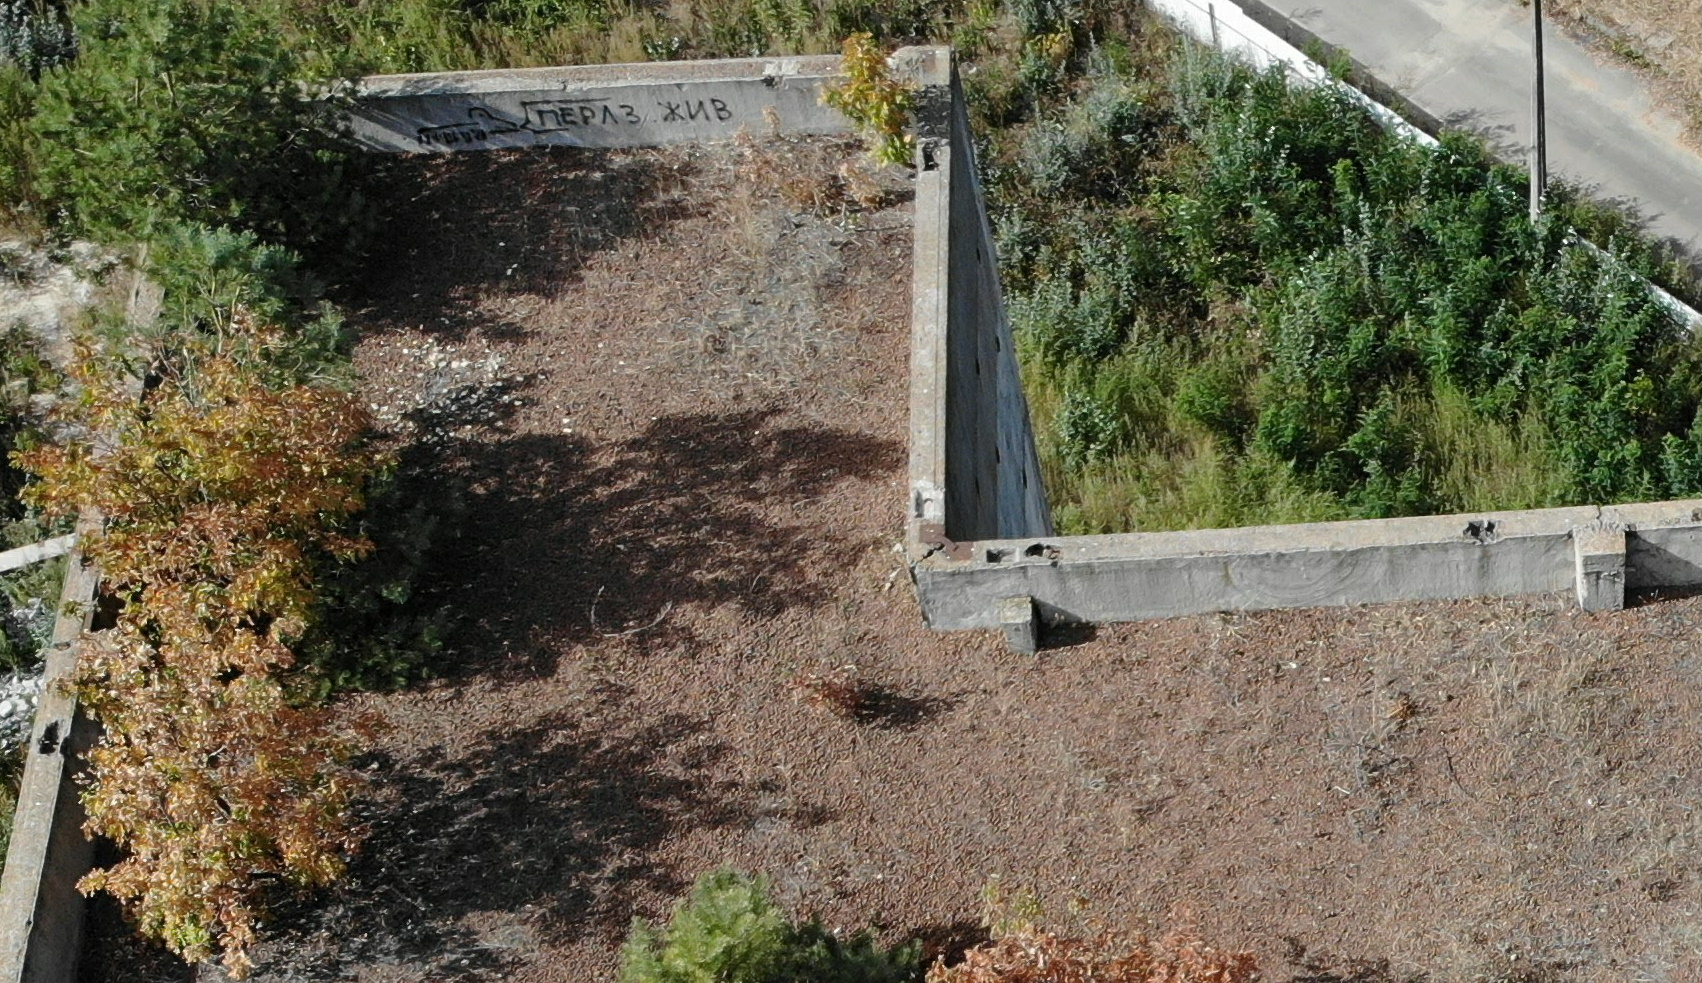tree: (44, 586, 409, 961), (34, 328, 400, 683), (41, 13, 390, 312), (120, 219, 387, 476), (597, 836, 816, 971), (816, 4, 935, 191)
